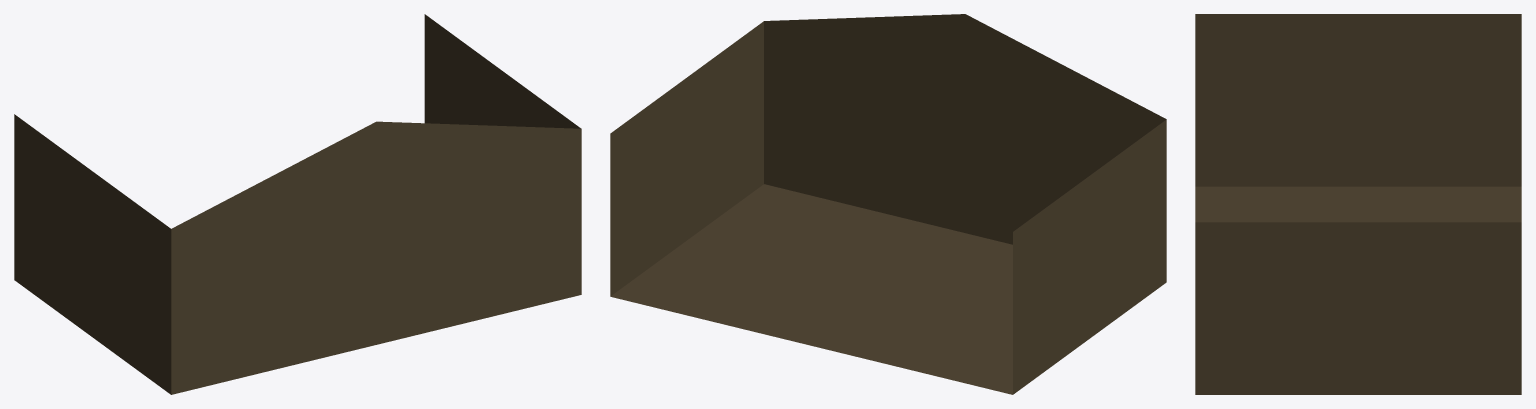
The picture shows the model from 3 angles, left to right: view 1: azimuth 30°, elevation 25°; view 2: azimuth 150°, elevation 25°; view 3: azimuth 270°, elevation 25°; orthographic projection. The views are drawn at different scales.
Parts seen in each view (by area): view 1: polySurface3374; view 2: polySurface3374; view 3: polySurface3374.
Part boxes in pixels (left/top/right/bottom): polySurface3374: left=14, top=14, right=581, bottom=394; polySurface3374: left=610, top=14, right=1166, bottom=394; polySurface3374: left=1195, top=14, right=1521, bottom=394.
Bounding box in the file's own units: 1320 × 686 × 874.
Materials: 1 (1 with a texture image).
